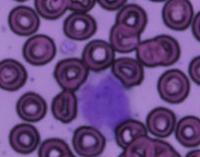M: (78, 70, 134, 130)
